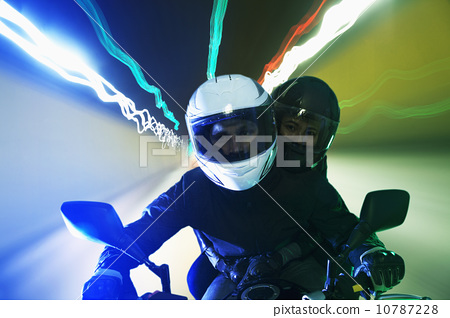helmet: (189, 78, 272, 184), (272, 77, 340, 169)
